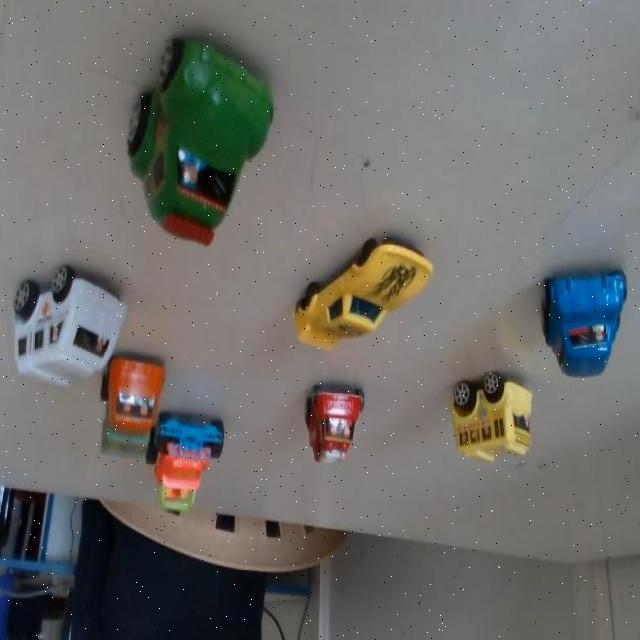car: (113, 43, 279, 242), (5, 251, 128, 403), (291, 233, 431, 360), (541, 264, 630, 379), (441, 361, 531, 463), (151, 416, 234, 519), (96, 350, 164, 469), (294, 372, 366, 476)
